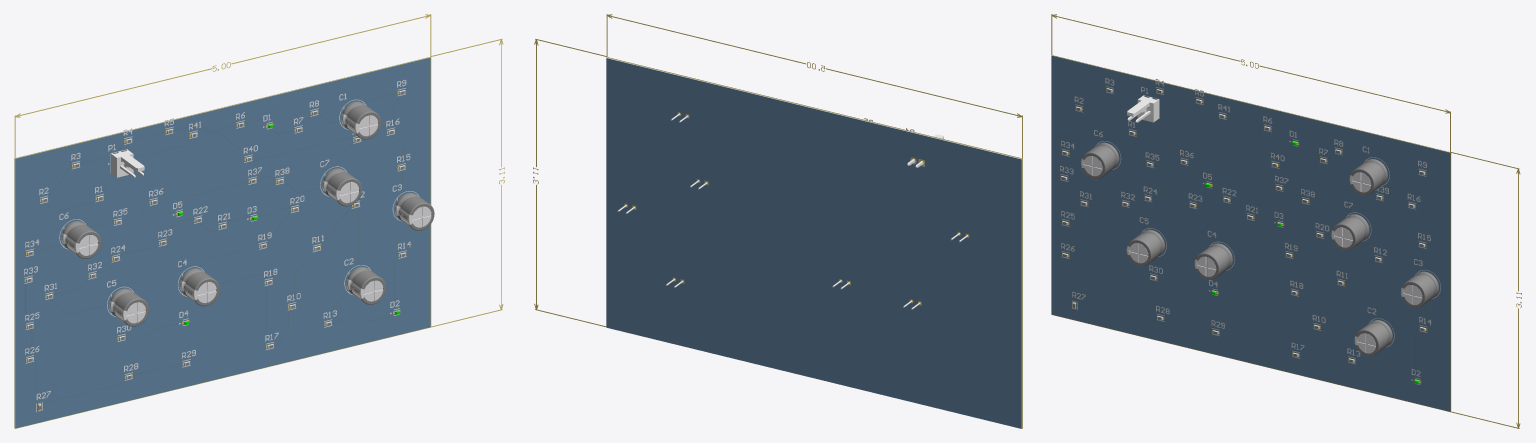
File: board1.fbx
3 views of the same model, side by side, from view 1: azimuth 30°, elevation 25°; view 2: azimuth 150°, elevation 25°; view 3: azimuth 330°, elevation 25° (orthographic). The views are drawn at different scales.
Visible parts, largest first — view 1: Solder_Top, Top, Track, ComponentBody.236, ComponentBody.222, ComponentBody.234, ComponentBody.204, ComponentBody.216, ComponentBody.228, ComponentBody.198, ComponentBody.210; view 2: Solder_Bottom, Track, Core; view 3: Solder_Top, Top, Track, ComponentBody.210, ComponentBody.222, ComponentBody.216, ComponentBody.228, ComponentBody.204, ComponentBody.198, ComponentBody.234, ComponentBody.236, Core.
Part boxes in pixels (x1,y1,x2,y2): Solder_Top: [15, 57, 430, 428]; Top: [24, 80, 419, 412]; Track: [14, 14, 504, 428]; ComponentBody.236: [111, 149, 144, 177]; ComponentBody.222: [342, 101, 381, 139]; ComponentBody.234: [181, 268, 219, 306]; ComponentBody.204: [110, 288, 148, 326]; ComponentBody.216: [323, 168, 361, 206]; ComponentBody.228: [347, 266, 386, 304]; ComponentBody.198: [395, 192, 434, 230]; ComponentBody.210: [62, 221, 101, 258]; Solder_Bottom: [606, 58, 1021, 428]; Track: [533, 14, 1022, 428]; Core: [606, 57, 1022, 428]; Solder_Top: [1051, 56, 1450, 411]; Top: [1060, 78, 1440, 384]; Track: [1051, 14, 1521, 428]; ComponentBody.210: [1082, 142, 1119, 179]; ComponentBody.222: [1350, 159, 1387, 195]; ComponentBody.216: [1332, 214, 1369, 250]; ComponentBody.228: [1355, 320, 1392, 356]; ComponentBody.204: [1127, 229, 1164, 266]; ComponentBody.198: [1402, 271, 1438, 307]; ComponentBody.234: [1195, 243, 1232, 279]; ComponentBody.236: [1127, 95, 1159, 122]; Core: [1054, 55, 1451, 410].
Size of the model in its own units: 1497 by 919 by 164.
